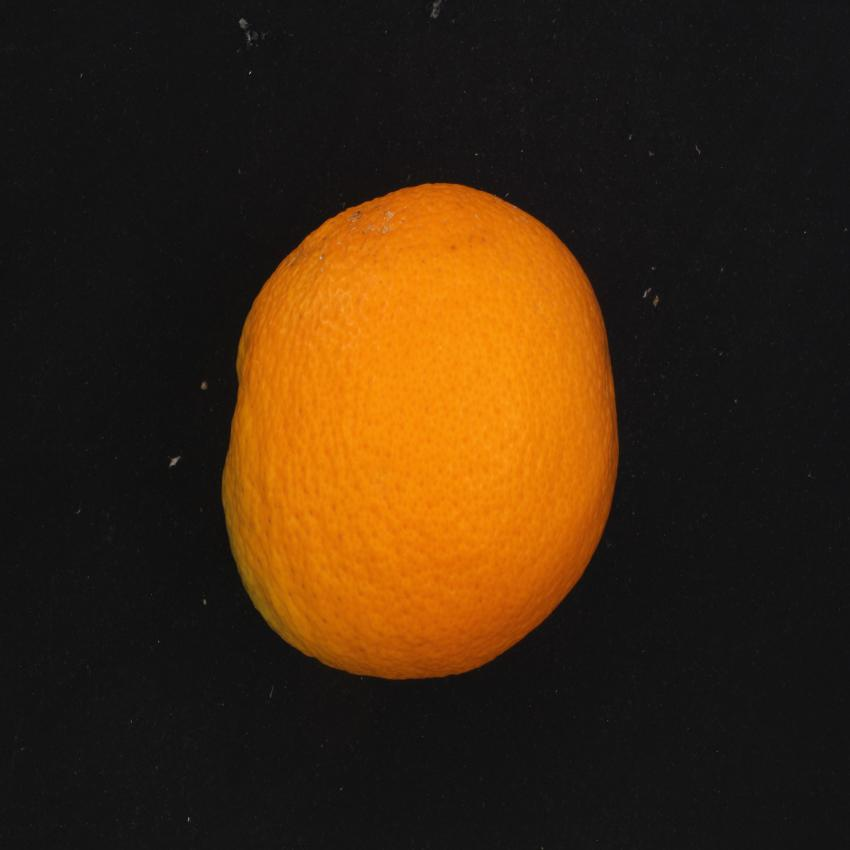Mal estado: (206, 170, 662, 701)
